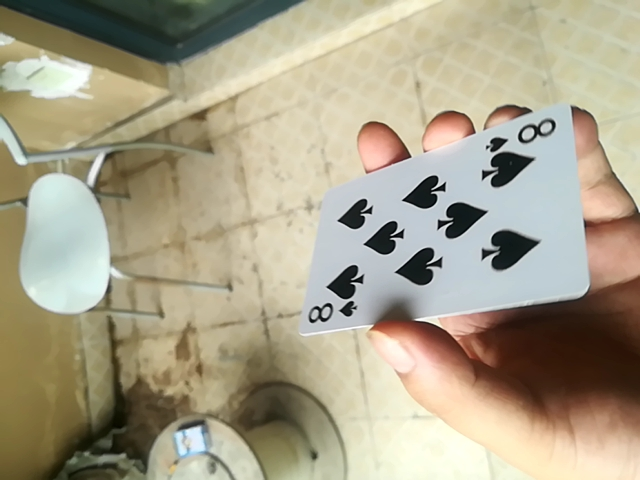ht 8: (297, 104, 591, 338)
